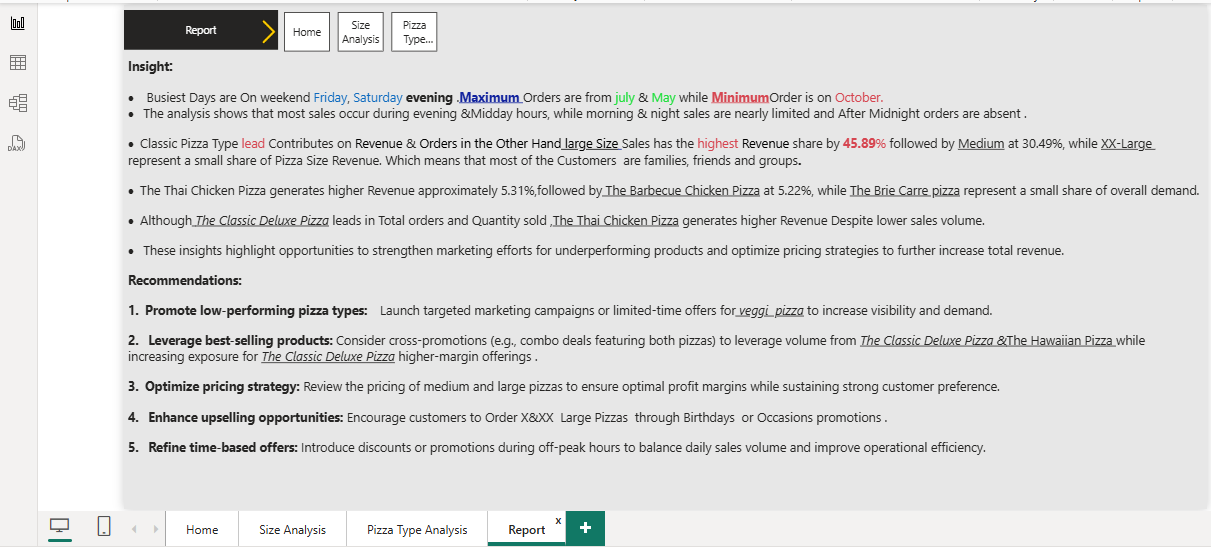

The dashboard page shown, as its layout file describes it:
{"tool":"powerbi","page":{"name":"Report","canvas":[1370,638],"ordinal":3},"visuals":[{"type":"textbox","box":[0,58.6,1370,580],"z":0},{"type":"pageNavigator","box":[0,5.7,195.7,50],"z":1000},{"type":"pageNavigator","box":[202.9,8.6,195.7,50],"z":2000},{"type":"image","box":[162.9,8.6,40,50],"z":3000}]}

Visuals, with their boxes on the page's 1370x638 design canvas (x1, y1, x2, y2). These are canvas units, not pixel positions in the 1211x547 screenshot, which may show the page scaled, cropped or inside an application window:
textbox: <bbox>0, 59, 1370, 639</bbox>
pageNavigator: <bbox>0, 6, 196, 56</bbox>
pageNavigator: <bbox>203, 9, 399, 59</bbox>
image: <bbox>163, 9, 203, 59</bbox>
